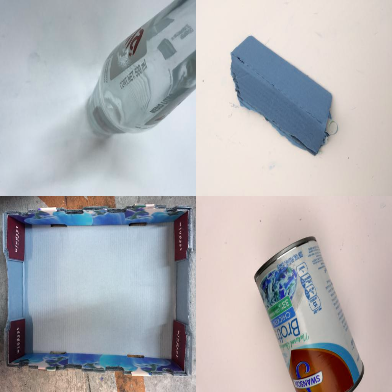cardboard: (1, 204, 196, 377), (230, 35, 339, 157)
glass: (85, 1, 196, 137)
metal: (253, 236, 366, 392)
